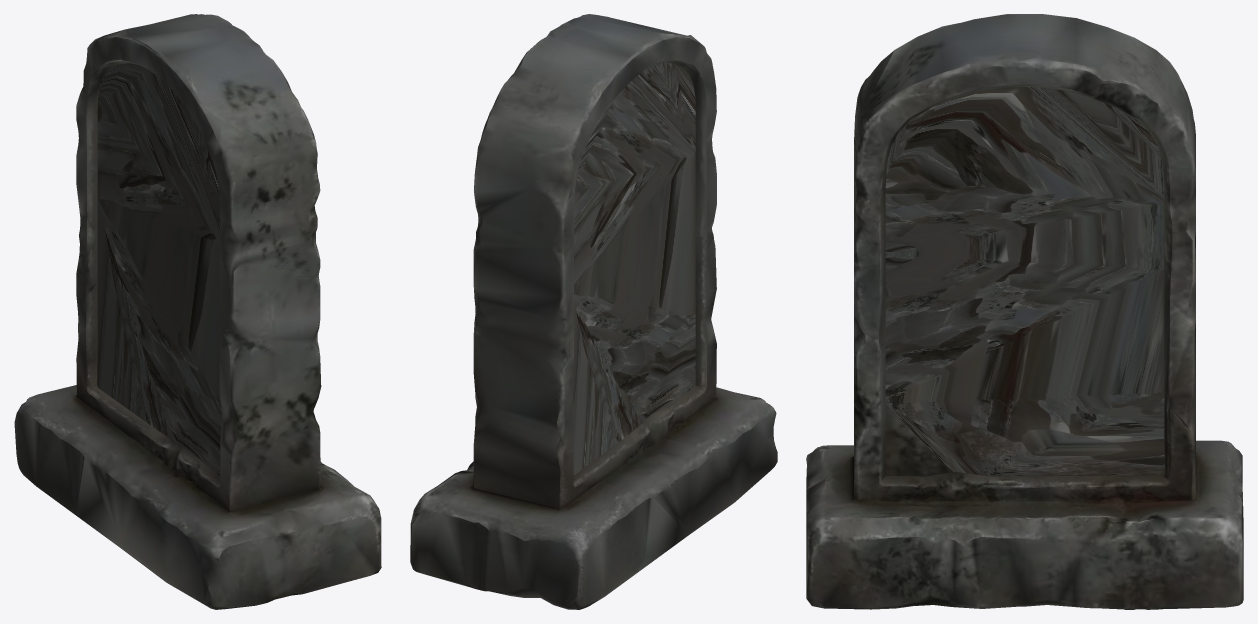
The model's file is gravestone.glb.
3 renders of one model, left to right at view 1: azimuth 30°, elevation 25°; view 2: azimuth 150°, elevation 25°; view 3: azimuth 270°, elevation 25°, orthographic. The views are drawn at different scales.
Parts seen in each view (by area): view 1: model; view 2: model; view 3: model.
Boxes of the visible parts, x1,y1,x2,y2 form: model: (14,14,381,609); model: (410,14,777,609); model: (806,14,1243,609).
Bounding box in the file's own units: 0.3777 × 1 × 0.7534.
Materials: 1 (1 with a texture image).
